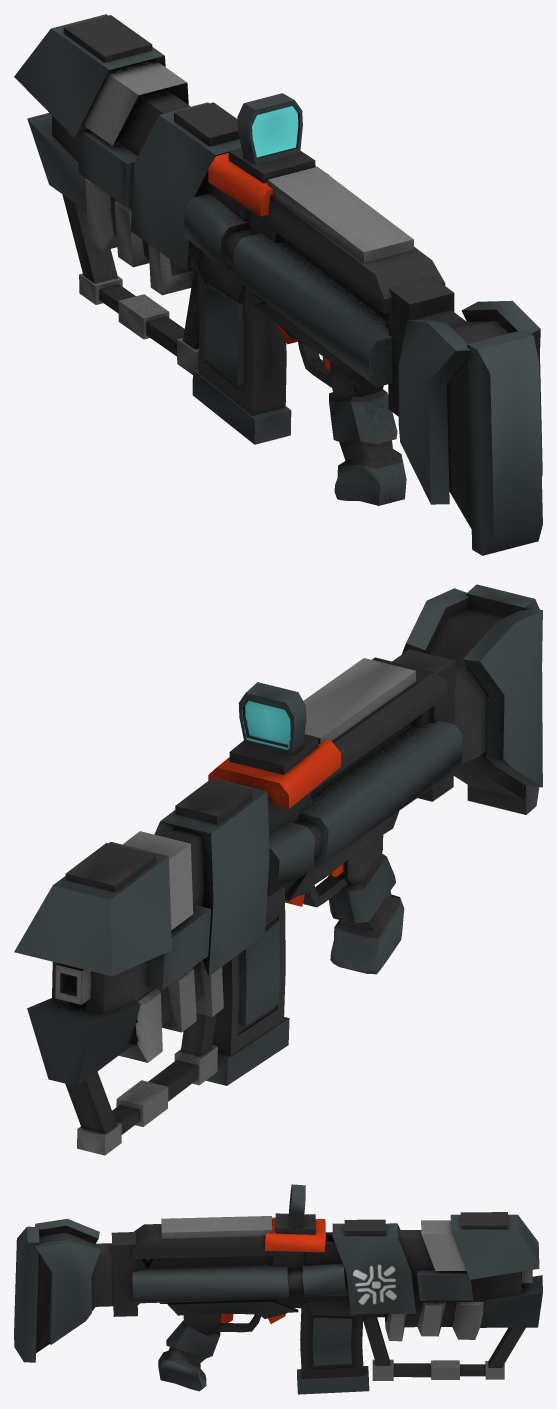
The model's file is machinegun.obj.
3 views of the same model, one above another, from view 1: azimuth 30°, elevation 25°; view 2: azimuth 150°, elevation 25°; view 3: azimuth 270°, elevation 25° (orthographic). The views are drawn at different scales.
Parts seen in each view (by area): view 1: Shotgun; view 2: Shotgun; view 3: Shotgun.
Boxes of the visible parts, x1,y1,x2,y2 form: Shotgun: [14, 14, 542, 555]; Shotgun: [14, 584, 542, 1155]; Shotgun: [14, 1184, 542, 1394].
Bounding box in the file's own units: 0.0502 × 0.1432 × 0.345.
